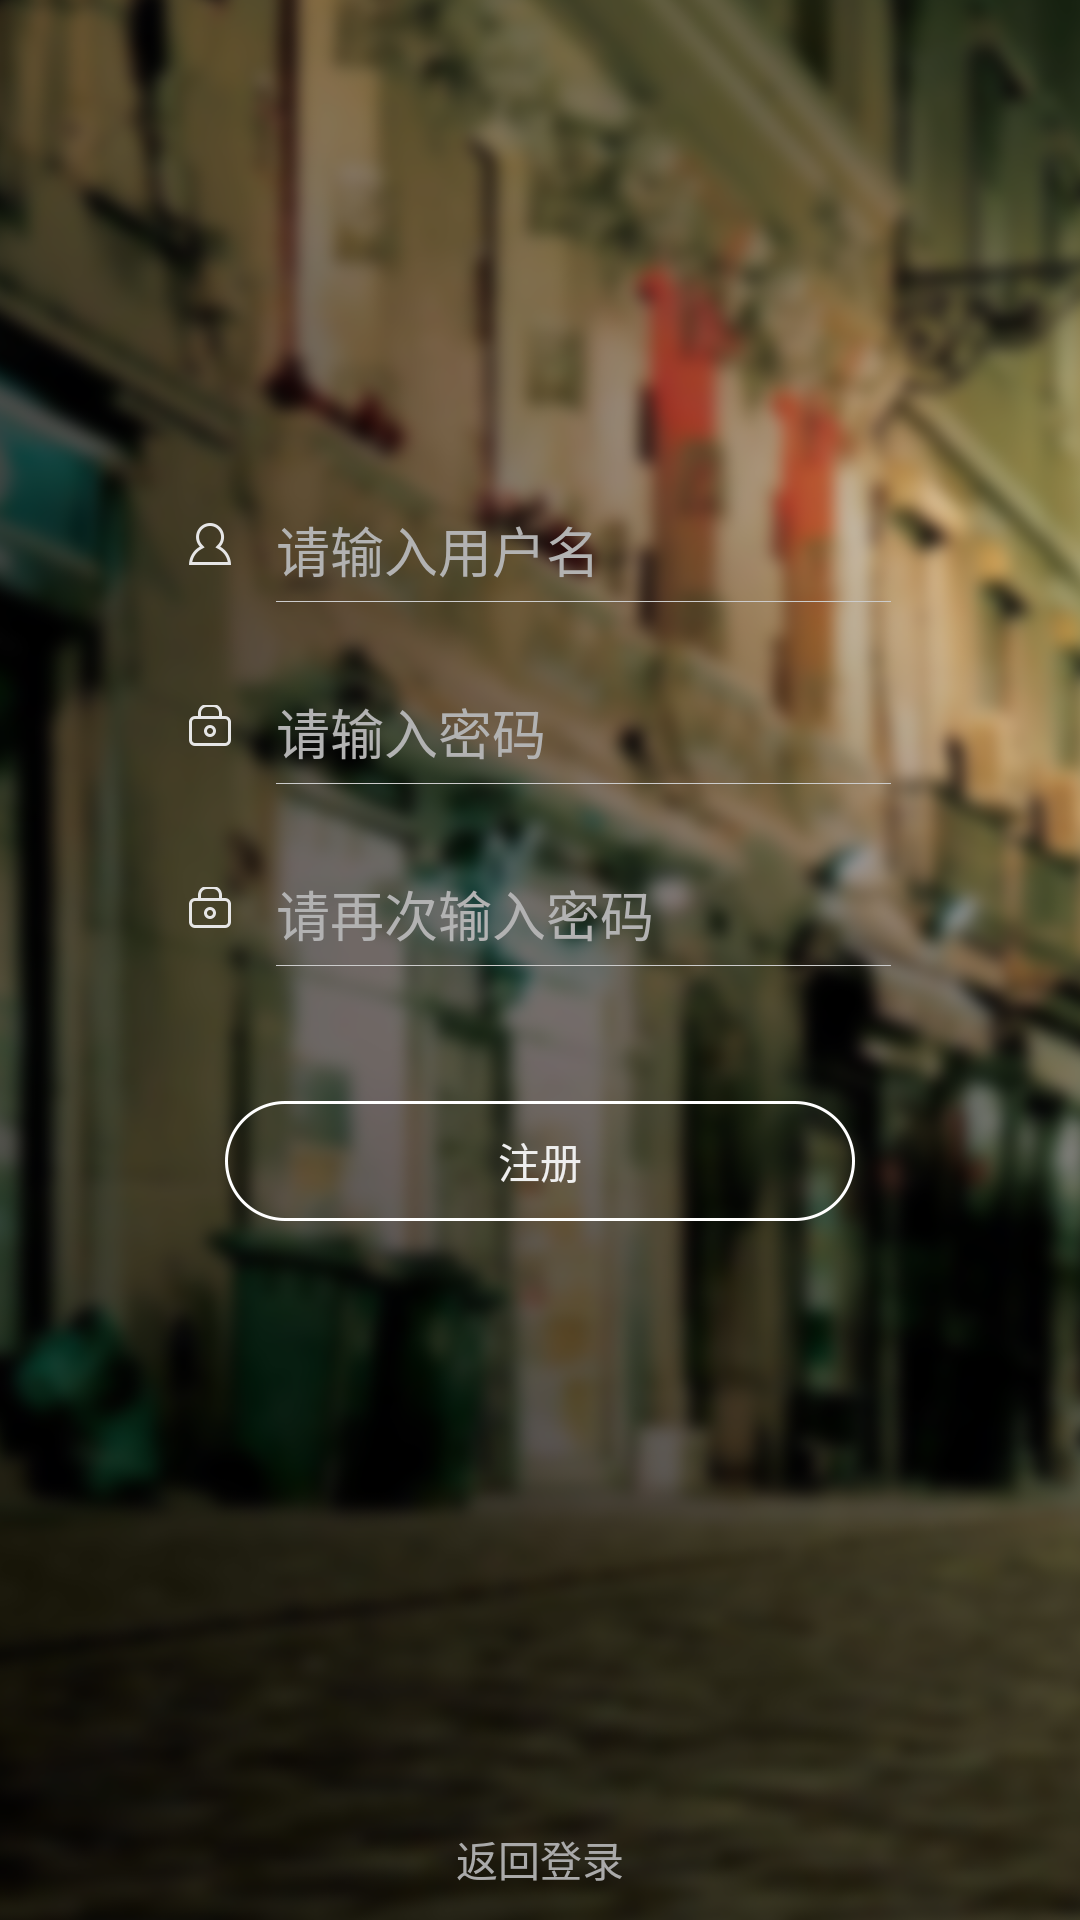

Screen size 1080×1920. Icon name, then its center in pixels as (x=x, y=y):
activity login password: (x=210, y=725), (x=210, y=907)
